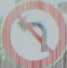Don't turn left: (5, 2, 60, 62)
